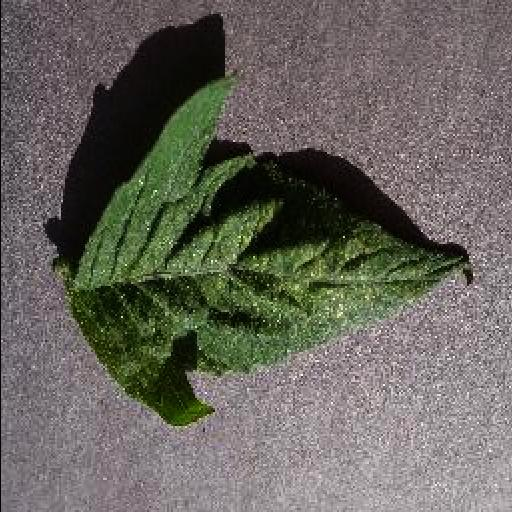disease_tomato: (68, 80, 476, 426)
